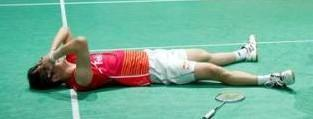Fall-Detected: (10, 24, 306, 92)
